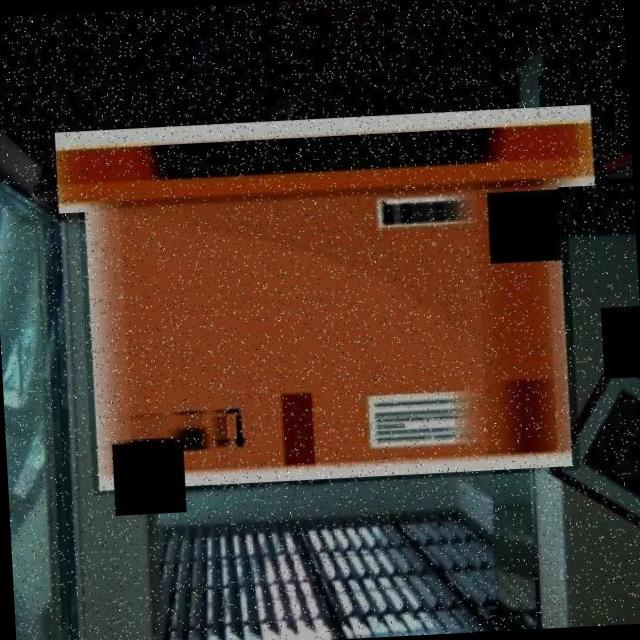box: (78, 177, 581, 496), (45, 103, 606, 214)
